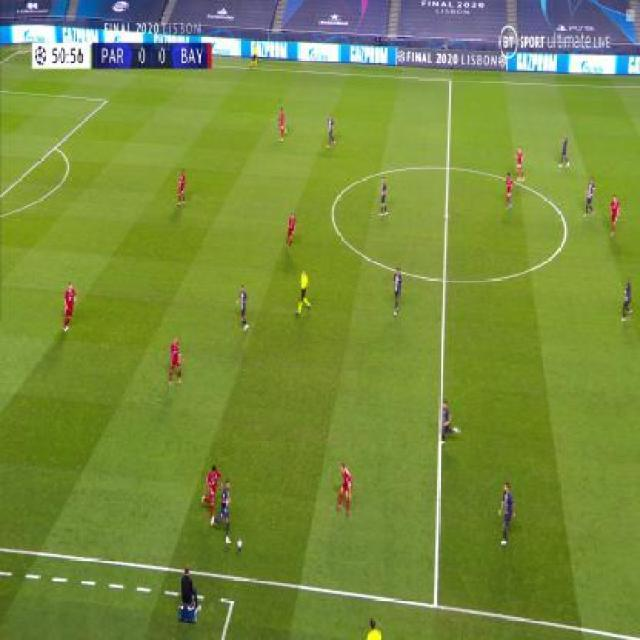ball: (236, 536, 242, 549)
player: (212, 476, 234, 542), (178, 565, 201, 624), (497, 482, 516, 547), (202, 463, 221, 522), (438, 399, 460, 444), (336, 461, 353, 517), (61, 282, 77, 333), (295, 267, 311, 316), (168, 334, 181, 387), (236, 284, 250, 332), (391, 266, 404, 317), (619, 277, 633, 323), (582, 177, 596, 217), (608, 195, 621, 238), (377, 176, 390, 216), (285, 212, 298, 251), (514, 145, 527, 182), (558, 132, 571, 169), (176, 168, 187, 207), (365, 617, 384, 639), (326, 115, 337, 149), (278, 106, 289, 140), (504, 171, 513, 210), (250, 43, 259, 69)
